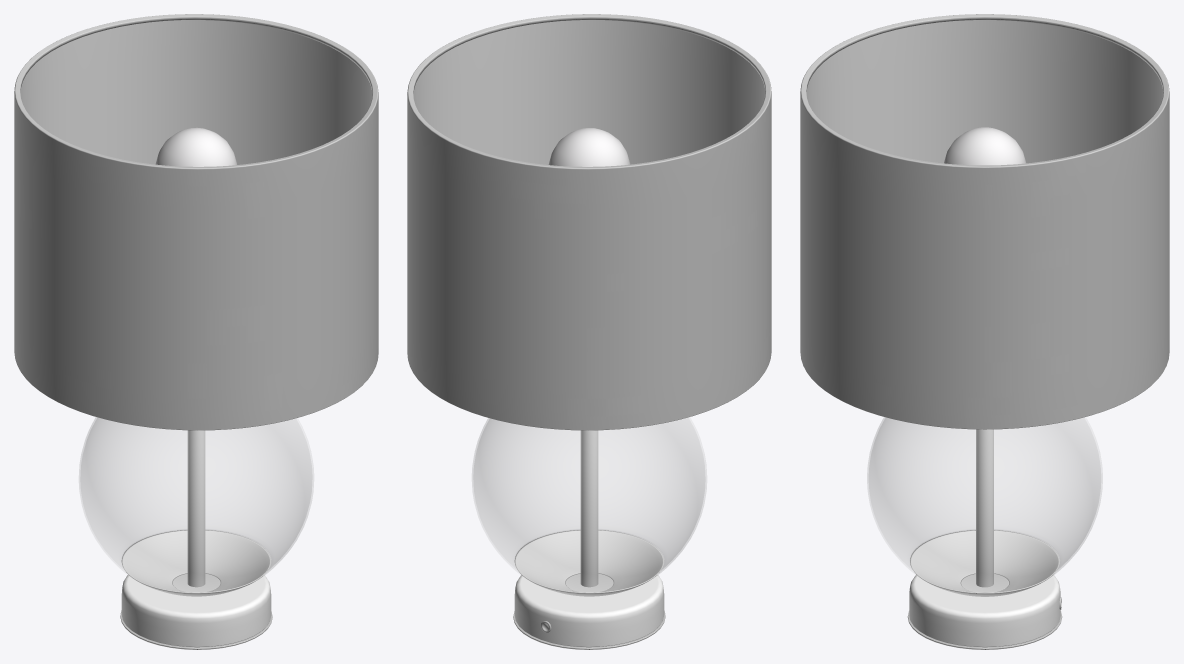
The model's file is lamp.glb.
3 views of the same model, side by side, from view 1: azimuth 30°, elevation 25°; view 2: azimuth 150°, elevation 25°; view 3: azimuth 270°, elevation 25° (orthographic).
Visible parts, largest first — view 1: lamp, lamp_iridescence, lamp_transmission; view 2: lamp, lamp_iridescence, lamp_transmission; view 3: lamp, lamp_iridescence, lamp_transmission.
Boxes of the visible parts, x1=… form: lamp: x1=14, y1=14, x2=378, y2=649; lamp_iridescence: x1=20, y1=20, x2=372, y2=164; lamp_transmission: x1=79, y1=417, x2=313, y2=592; lamp: x1=407, y1=14, x2=771, y2=649; lamp_iridescence: x1=413, y1=20, x2=765, y2=164; lamp_transmission: x1=472, y1=417, x2=706, y2=592; lamp: x1=800, y1=14, x2=1169, y2=649; lamp_iridescence: x1=806, y1=20, x2=1163, y2=163; lamp_transmission: x1=867, y1=417, x2=1102, y2=592.
Size of the model in its own units: 0.2973 by 0.4761 by 0.3019.
3 materials, 3 textured.
